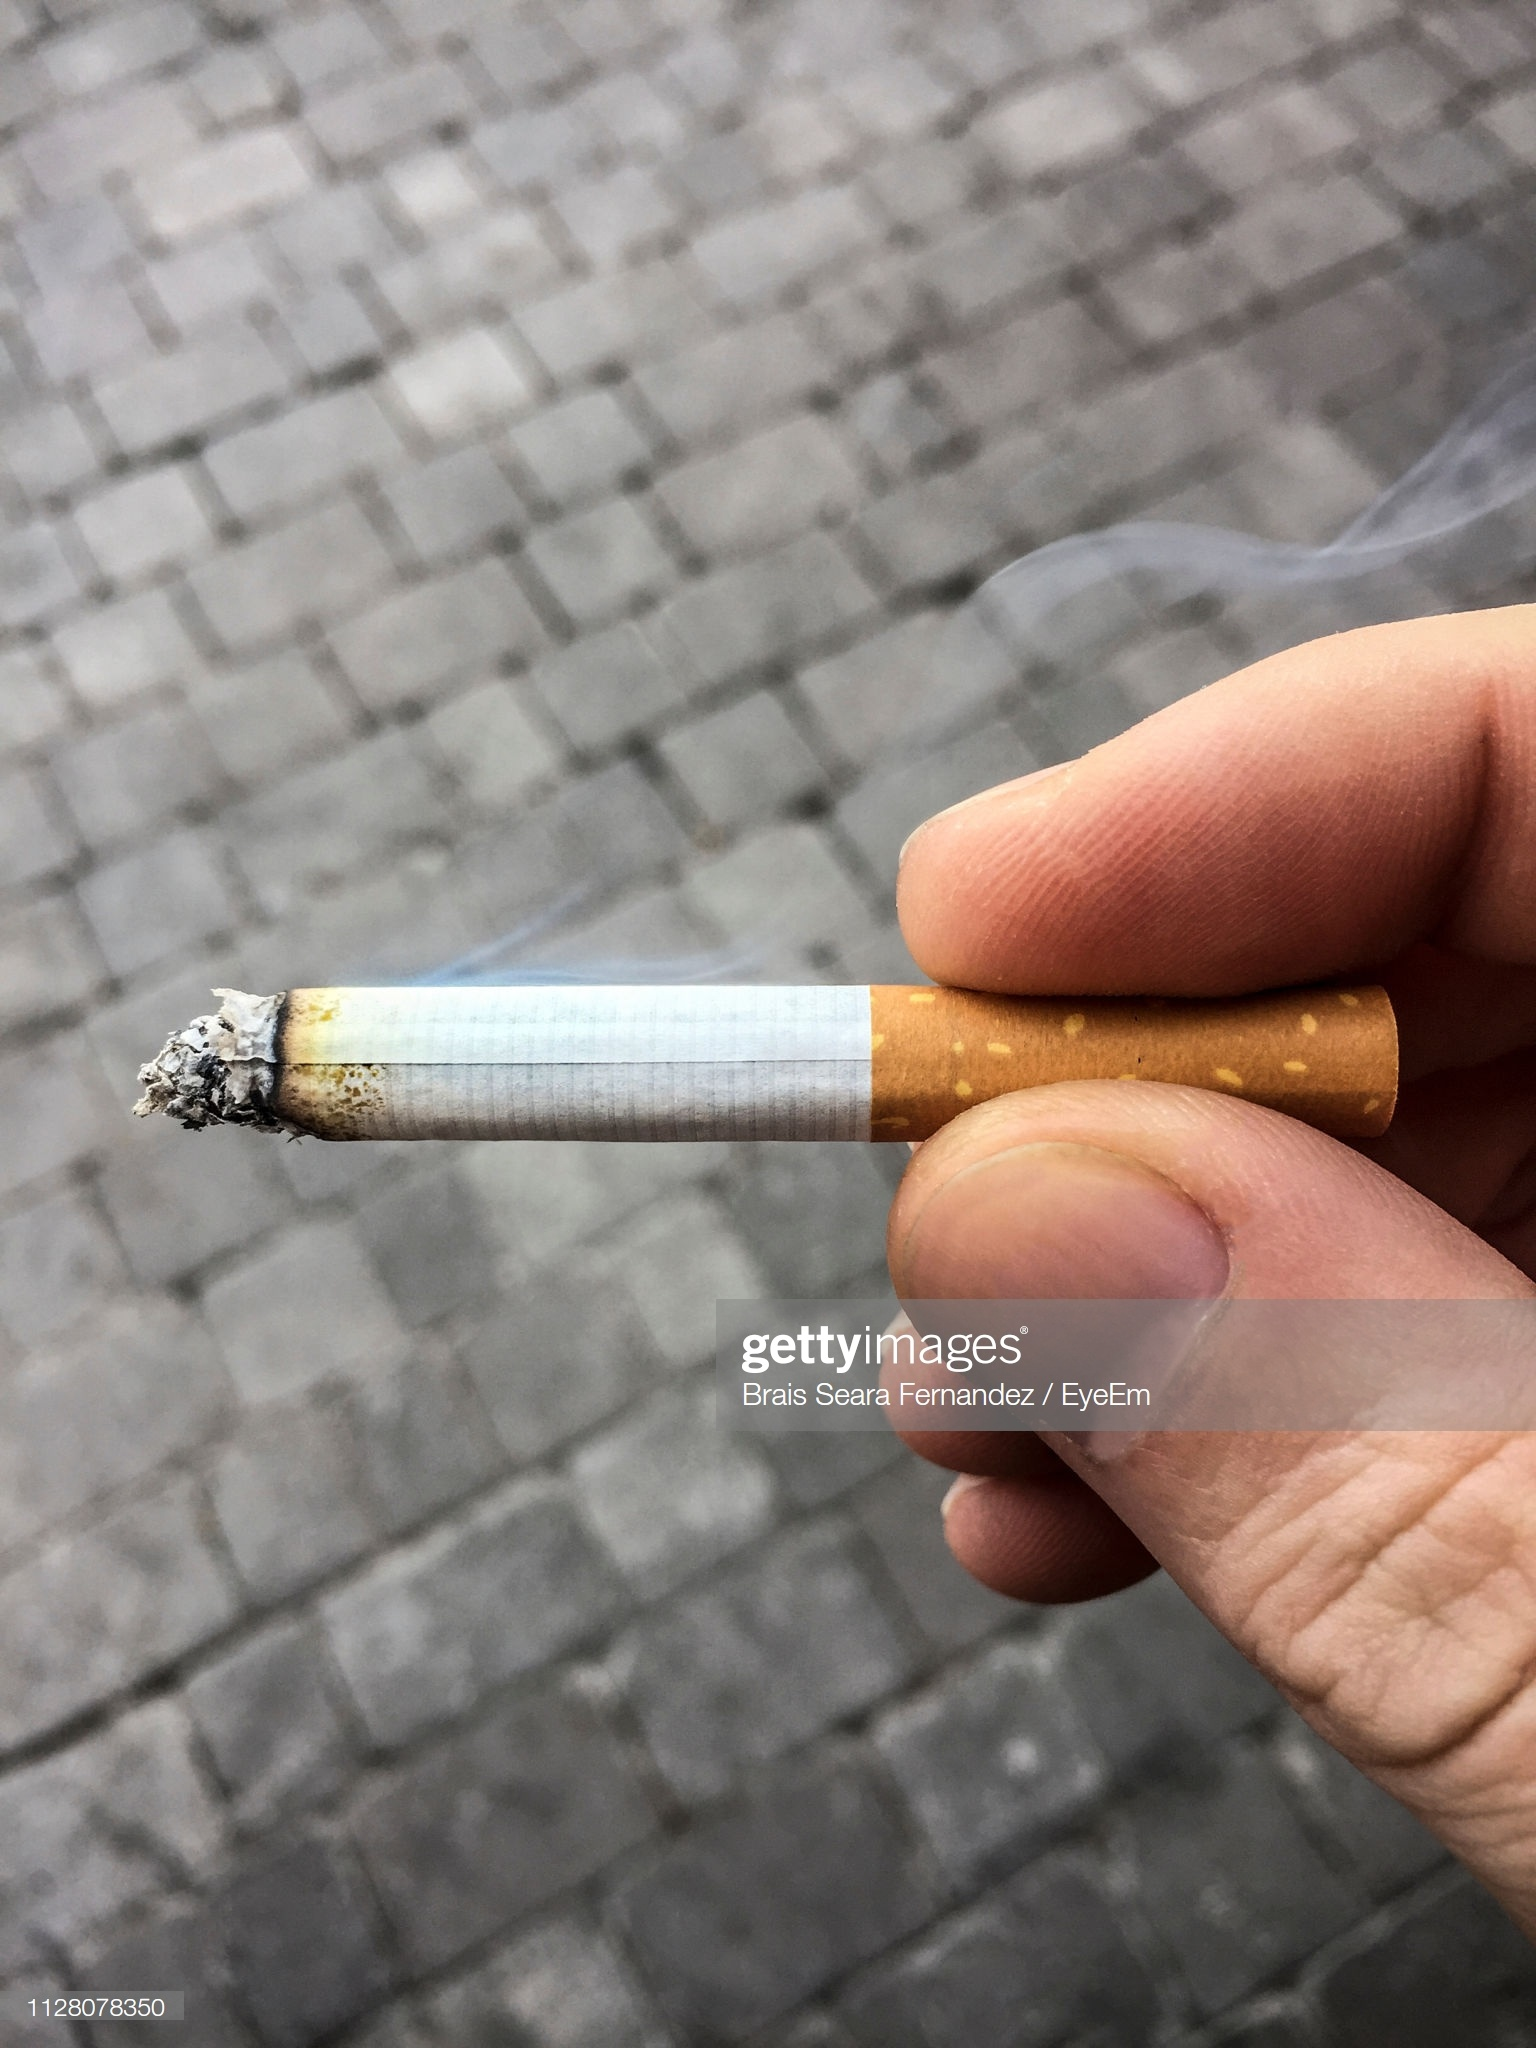sigaretta: (136, 976, 1417, 1179)
